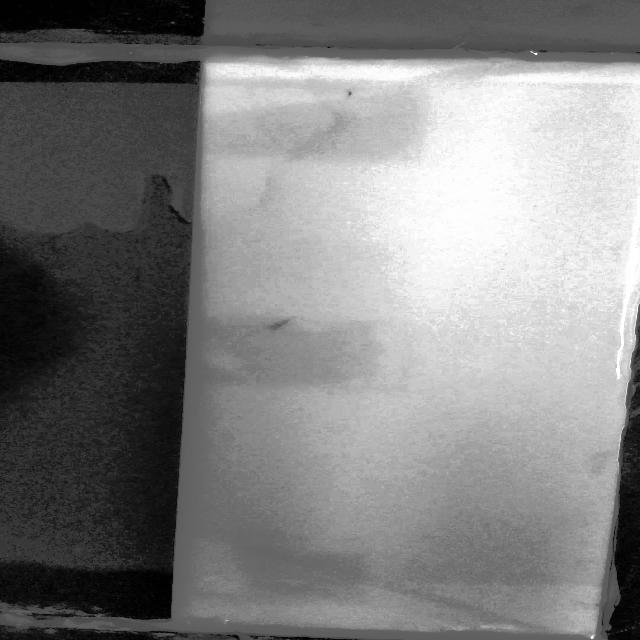shrimp: (262, 316, 296, 334), (338, 88, 372, 102)
